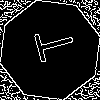T: (25, 25, 77, 66)
